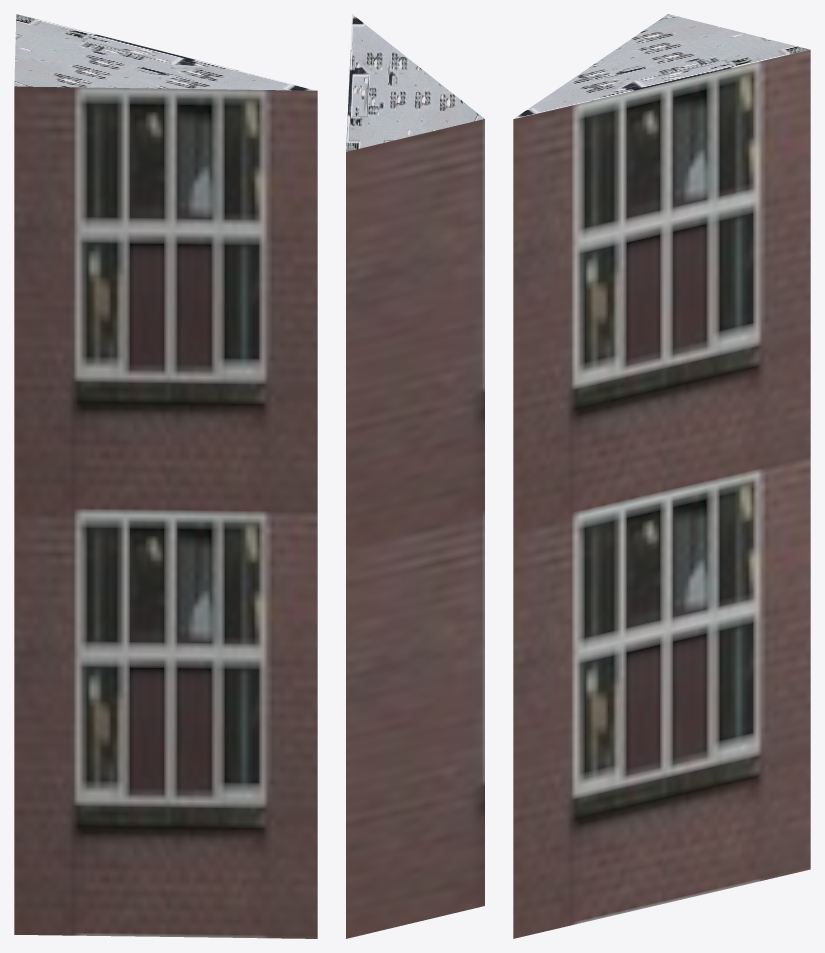
Rendered from ResTex__3615.fbx.
3 views of the same model, side by side, from view 1: azimuth 30°, elevation 25°; view 2: azimuth 150°, elevation 25°; view 3: azimuth 270°, elevation 25° (orthographic). The views are drawn at different scales.
Visible parts, largest first — view 1: CityEngineMaterial_12_m, CityEngineMaterial_2_m; view 2: CityEngineMaterial_12_m, CityEngineMaterial_2_m; view 3: CityEngineMaterial_12_m, CityEngineMaterial_2_m.
Boxes of the visible parts, left/top/right/bottom form: CityEngineMaterial_12_m: left=14, top=86, right=317, bottom=938; CityEngineMaterial_2_m: left=14, top=14, right=316, bottom=90; CityEngineMaterial_12_m: left=346, top=119, right=484, bottom=938; CityEngineMaterial_2_m: left=346, top=14, right=484, bottom=151; CityEngineMaterial_12_m: left=513, top=50, right=810, bottom=938; CityEngineMaterial_2_m: left=514, top=14, right=809, bottom=118.
Bounding box in the file's own units: 1.65 × 6 × 1.97.
2 materials, 2 textured.
